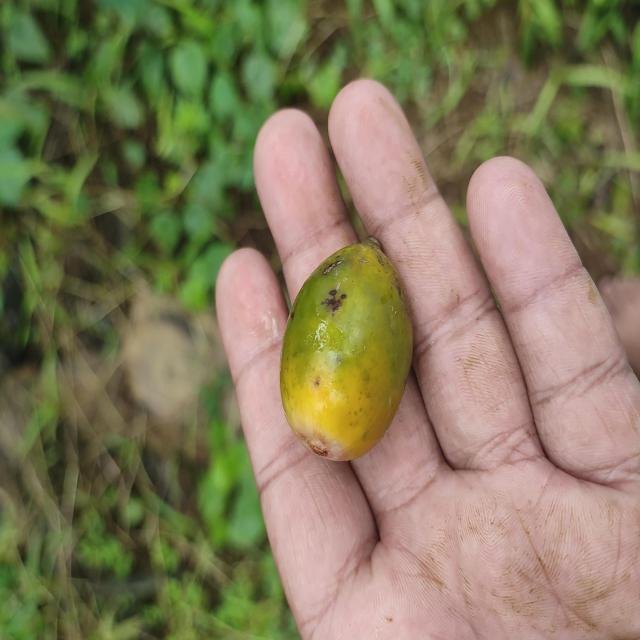good: (278, 243, 415, 464)
